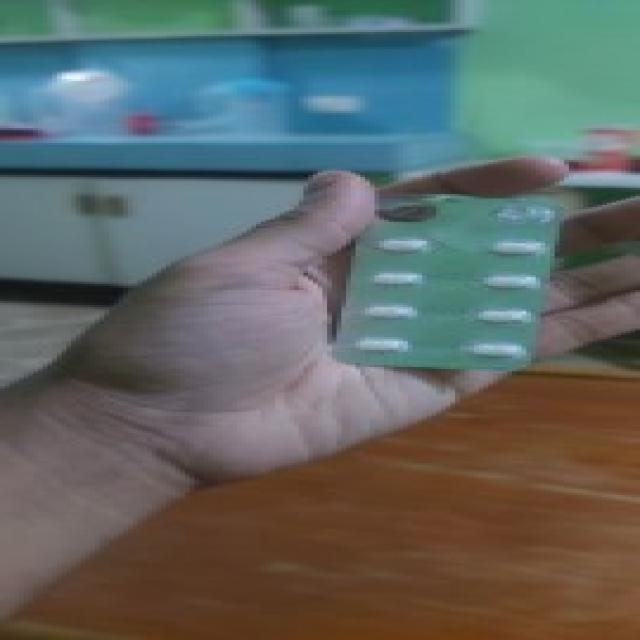Cacat: (341, 187, 559, 374)
Kemasan: (375, 194, 460, 230)
